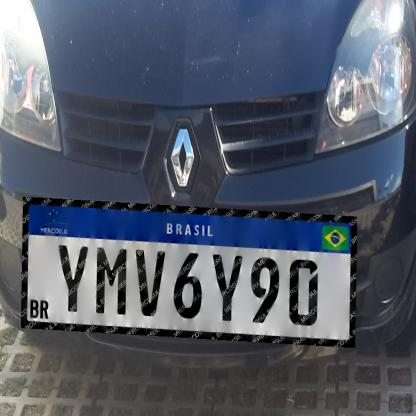PlacaM: (21, 197, 357, 348)
